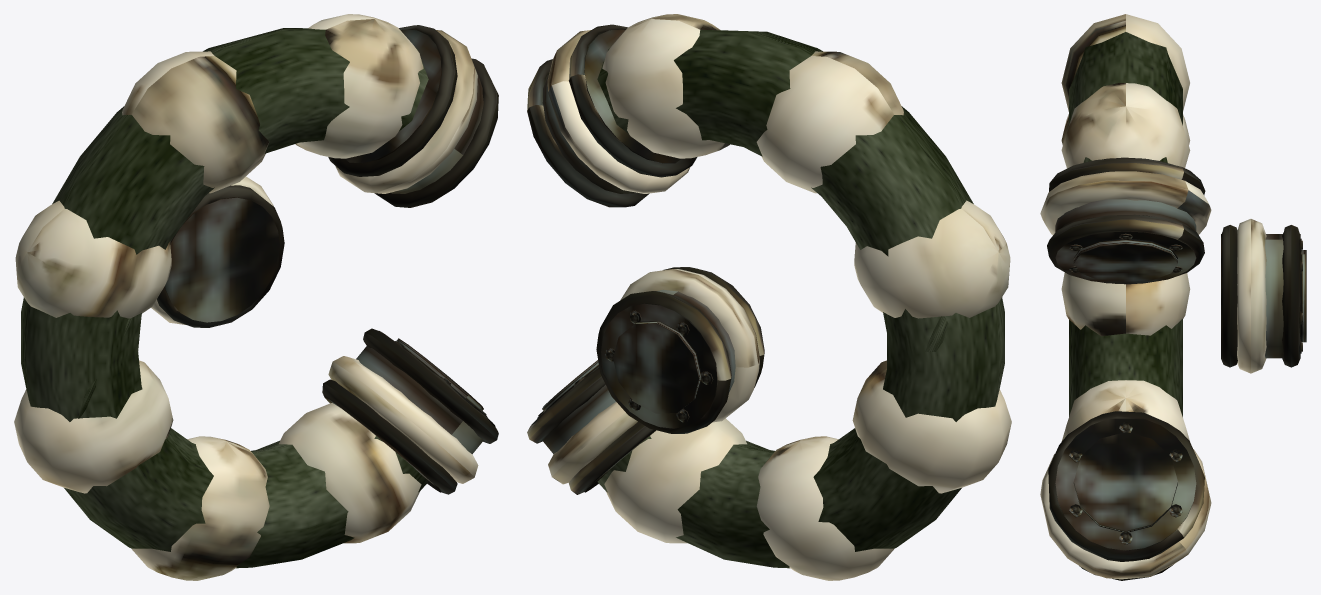
The model's file is organ-returnNerve-icon-v1.glb.
The picture shows the model from 3 angles, left to right: view 1: azimuth 30°, elevation 25°; view 2: azimuth 150°, elevation 25°; view 3: azimuth 270°, elevation 25°; orthographic projection. The views are drawn at different scales.
Parts seen in each view (by area): view 1: organ-returnNerve-icon-v1-ceramic, organ-returnNerve-icon-v1-olive, organ-returnNerve-icon-v1-steel, organ-returnNerve-icon-v1-brass; view 2: organ-returnNerve-icon-v1-ceramic, organ-returnNerve-icon-v1-olive, organ-returnNerve-icon-v1-steel, organ-returnNerve-icon-v1-brass; view 3: organ-returnNerve-icon-v1-ceramic, organ-returnNerve-icon-v1-steel, organ-returnNerve-icon-v1-brass, organ-returnNerve-icon-v1-olive.
Boxes of the visible parts, x1=… form: organ-returnNerve-icon-v1-ceramic: x1=14, y1=14, x2=478, y2=580; organ-returnNerve-icon-v1-olive: x1=21, y1=28, x2=428, y2=568; organ-returnNerve-icon-v1-steel: x1=164, y1=29, x2=495, y2=492; organ-returnNerve-icon-v1-brass: x1=157, y1=25, x2=498, y2=494; organ-returnNerve-icon-v1-ceramic: x1=547, y1=14, x2=1011, y2=580; organ-returnNerve-icon-v1-olive: x1=597, y1=29, x2=1004, y2=568; organ-returnNerve-icon-v1-steel: x1=531, y1=29, x2=735, y2=492; organ-returnNerve-icon-v1-brass: x1=527, y1=24, x2=764, y2=494; organ-returnNerve-icon-v1-ceramic: x1=1040, y1=14, x2=1266, y2=579; organ-returnNerve-icon-v1-steel: x1=1055, y1=157, x2=1306, y2=550; organ-returnNerve-icon-v1-brass: x1=1047, y1=157, x2=1302, y2=580; organ-returnNerve-icon-v1-olive: x1=1069, y1=32, x2=1182, y2=416.
Size of the model in its own units: 0.8104 by 0.8856 by 0.4347.
2 materials, 2 textured.
